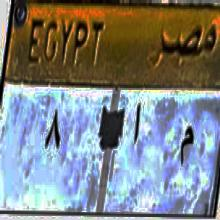8: (43, 105, 63, 165)
alif: (131, 98, 145, 161)
meem: (178, 118, 195, 181)
